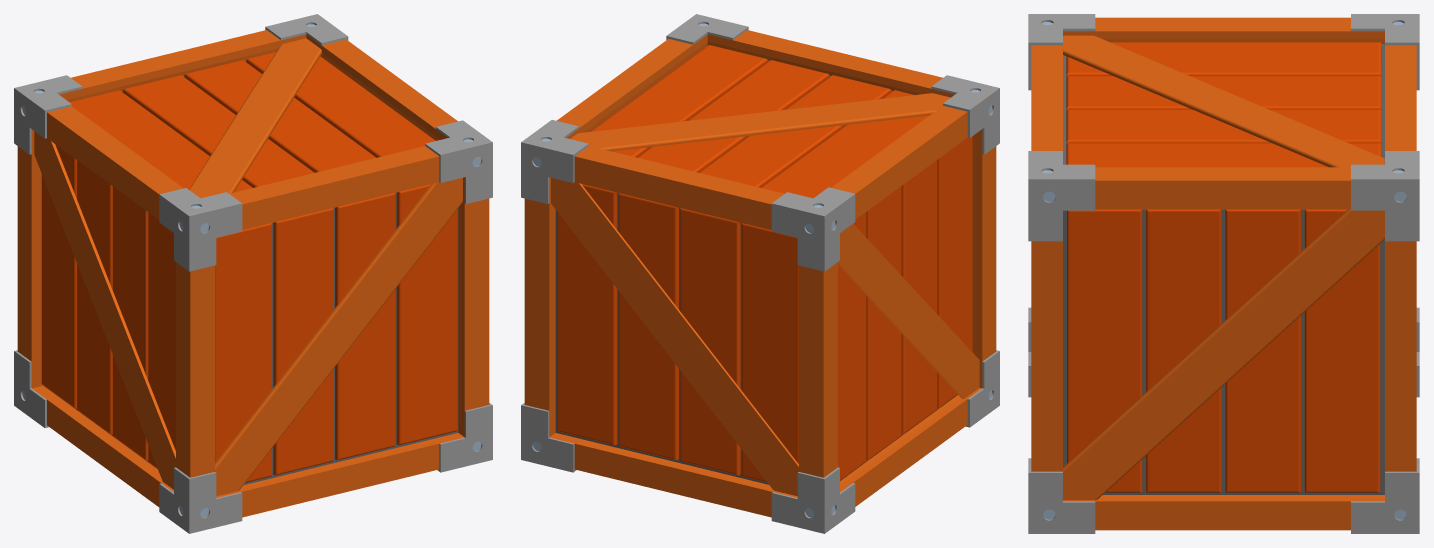
The model's file is 4x1 metalni cosak kutija final.fbx.
3 renders of one model, left to right at view 1: azimuth 30°, elevation 25°; view 2: azimuth 150°, elevation 25°; view 3: azimuth 270°, elevation 25°, orthographic. The views are drawn at different scales.
Visible parts, largest first — view 1: Cube.209; view 2: Cube.209; view 3: Cube.209.
Boxes of the visible parts, <box> form: Cube.209: <box>14,14,492,533</box>; Cube.209: <box>521,14,999,533</box>; Cube.209: <box>1028,14,1419,533</box>.
Bounding box in the file's own units: 203 × 203 × 203.
